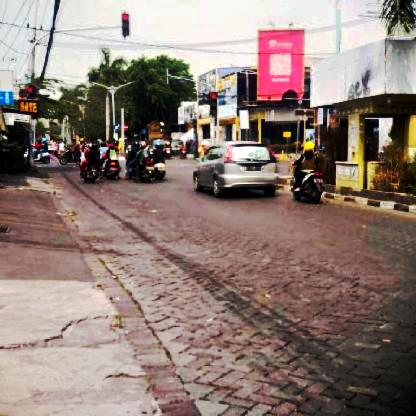Traffic Light -Red-: (120, 10, 130, 38), (209, 92, 218, 116)
